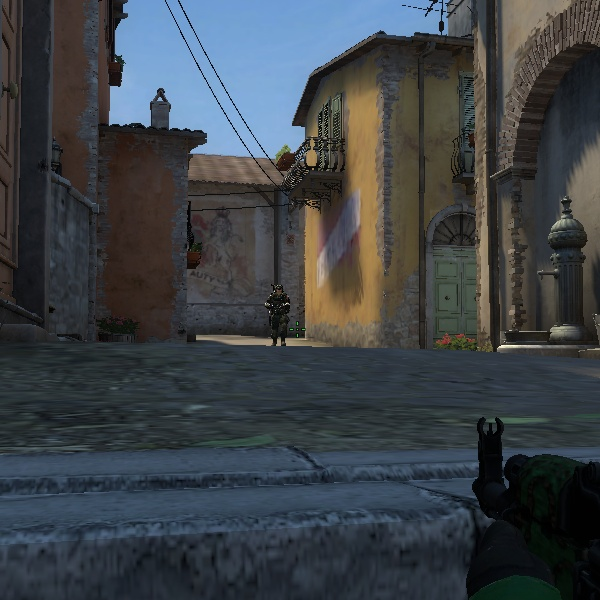ct_body: (260, 281, 297, 347)
ct_head: (271, 283, 286, 298)
